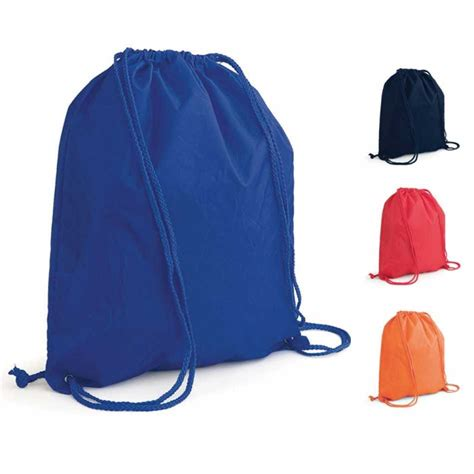nylon: (44, 48, 306, 390)
